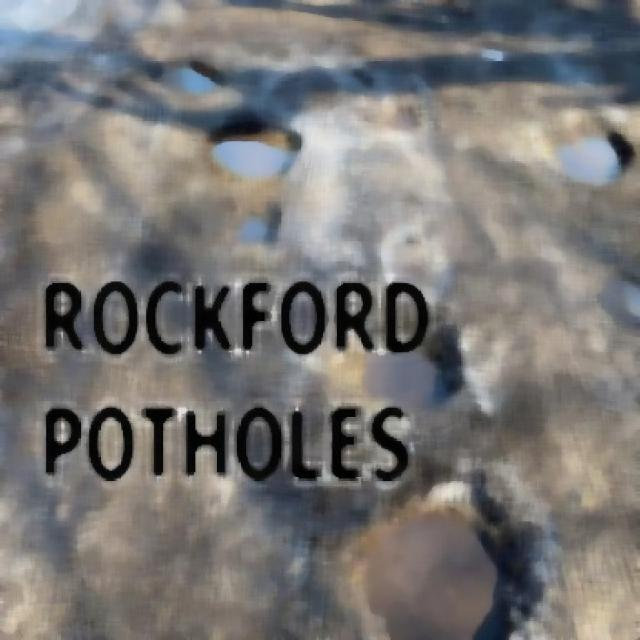Pothole: (361, 490, 519, 639), (355, 302, 460, 410), (216, 116, 302, 181), (153, 55, 224, 97)
